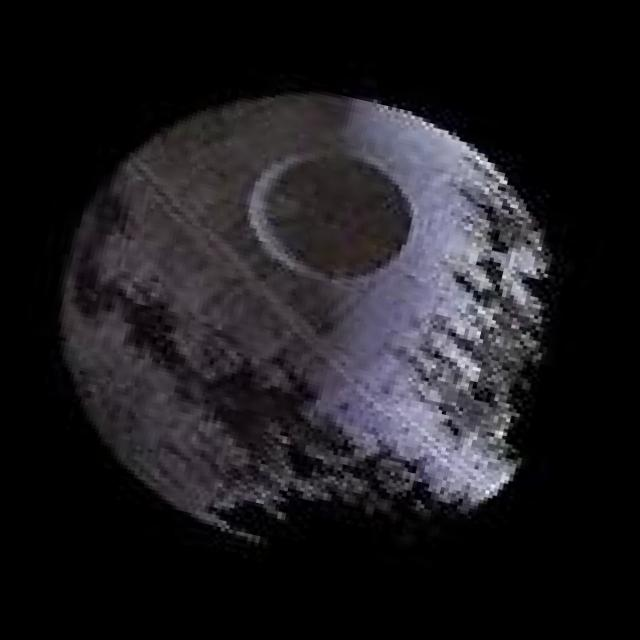Death Star: (6, 31, 606, 606)
